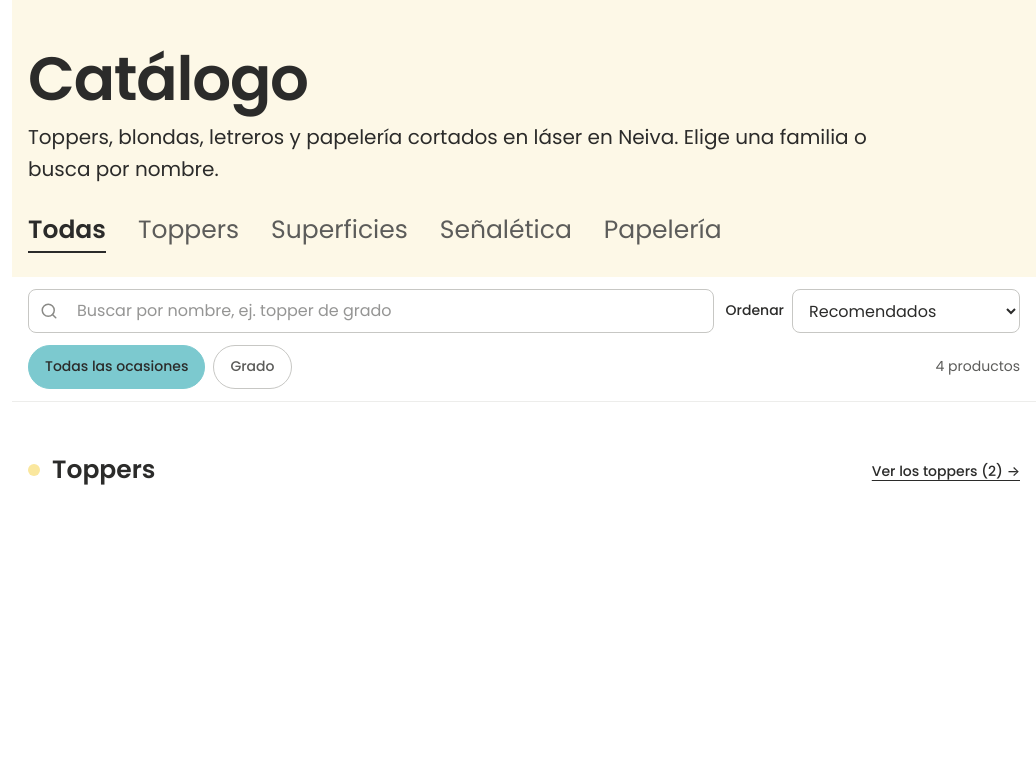
Test: CatalogoPage › ordenar escribe el orden en la URL
Step 1. Select "Nombre" in the dropdown labelled "Ordenar" → [906, 311], box [792,289,1020,333]
(page scrolled)
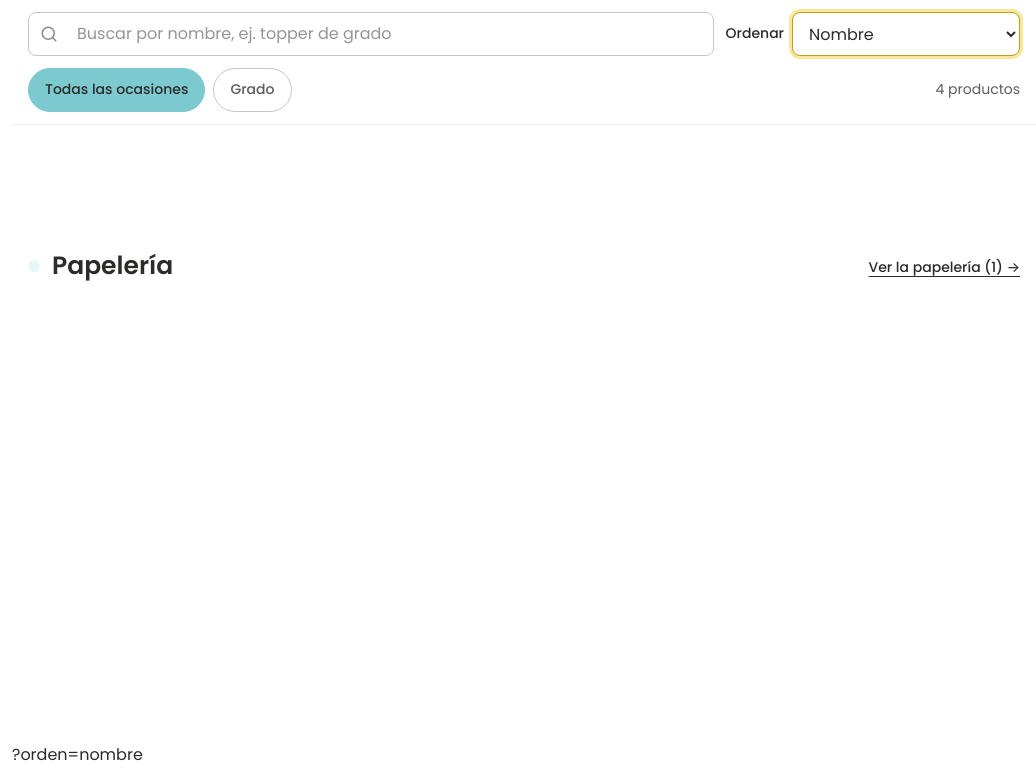
Now the text with test id "ubicacion" reads "?orden=nombre", box [12,743,143,766]
